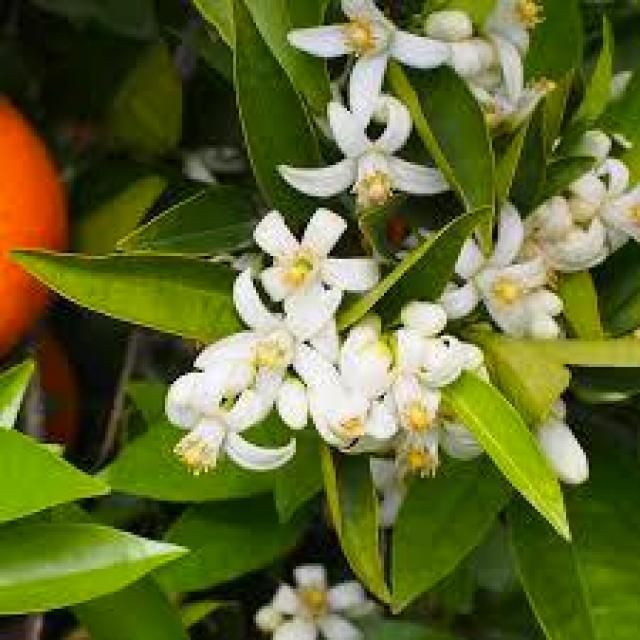Bunga: (276, 100, 452, 228), (196, 270, 338, 407), (287, 0, 449, 102), (444, 194, 549, 336), (165, 378, 293, 481), (253, 208, 378, 310), (378, 338, 464, 438), (369, 415, 486, 478), (270, 563, 364, 640), (569, 159, 640, 259), (477, 0, 537, 102), (307, 364, 370, 447), (532, 412, 592, 487), (347, 321, 395, 387), (276, 376, 310, 430), (421, 8, 475, 40), (395, 298, 438, 332)
